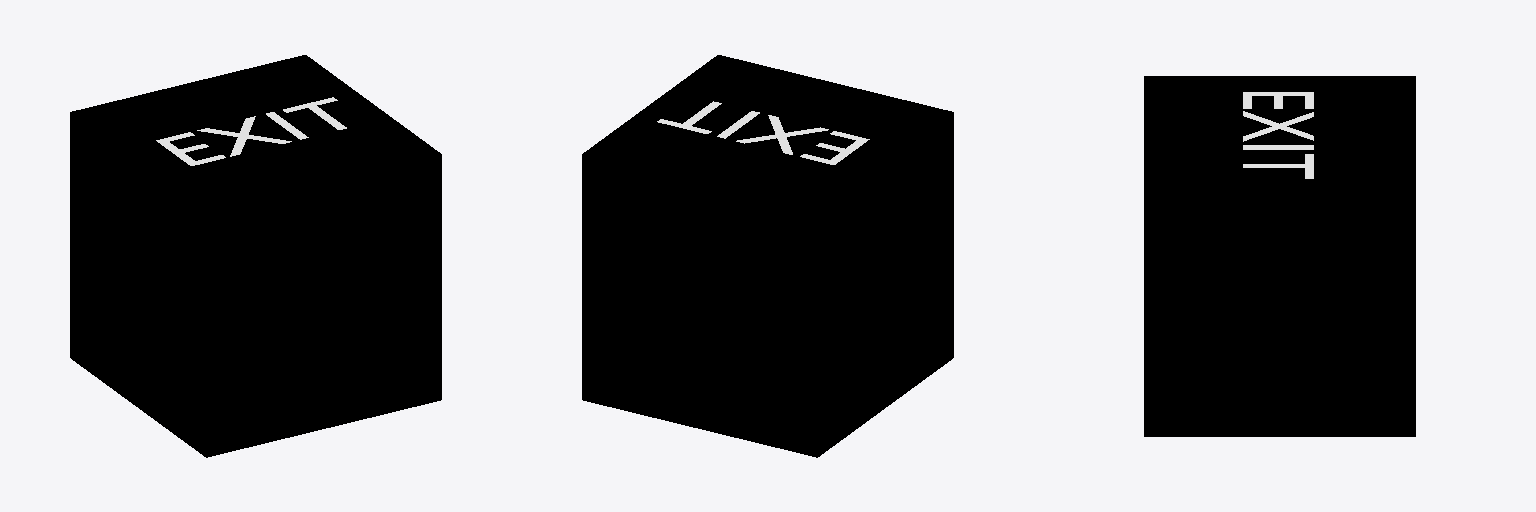
File: exit.obj
3 views of the same model, side by side, from view 1: azimuth 30°, elevation 25°; view 2: azimuth 150°, elevation 25°; view 3: azimuth 270°, elevation 25° (orthographic).
Parts seen in each view (by area): view 1: Cube, Text_Mesh; view 2: Cube, Text_Mesh; view 3: Cube, Text_Mesh.
Boxes of the visible parts, x1,y1,x2,y2 form: Cube: [70, 55, 441, 457]; Text_Mesh: [156, 97, 346, 165]; Cube: [582, 55, 953, 457]; Text_Mesh: [657, 101, 869, 164]; Cube: [1144, 76, 1415, 436]; Text_Mesh: [1243, 92, 1313, 178].
Size of the model in its own units: 3.96 by 3.97 by 3.96.